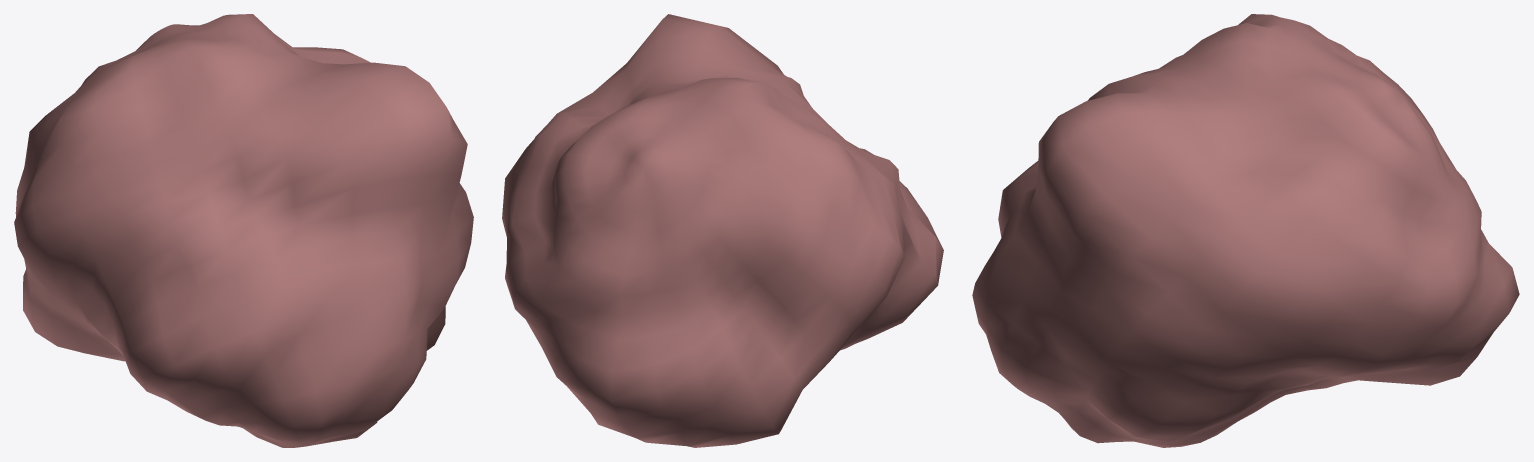
The model's file is wormBumpedUV.fbx.
3 renders of one model, left to right at view 1: azimuth 30°, elevation 25°; view 2: azimuth 150°, elevation 25°; view 3: azimuth 270°, elevation 25°, orthographic. The views are drawn at different scales.
Parts seen in each view (by area): view 1: bumped; view 2: bumped; view 3: bumped.
Boxes of the visible parts, x1,y1,x2,y2 form: bumped: (14, 14, 473, 447); bumped: (502, 14, 943, 447); bumped: (972, 14, 1519, 447).
Size of the model in its own units: 10.48 by 8.87 by 11.73.
